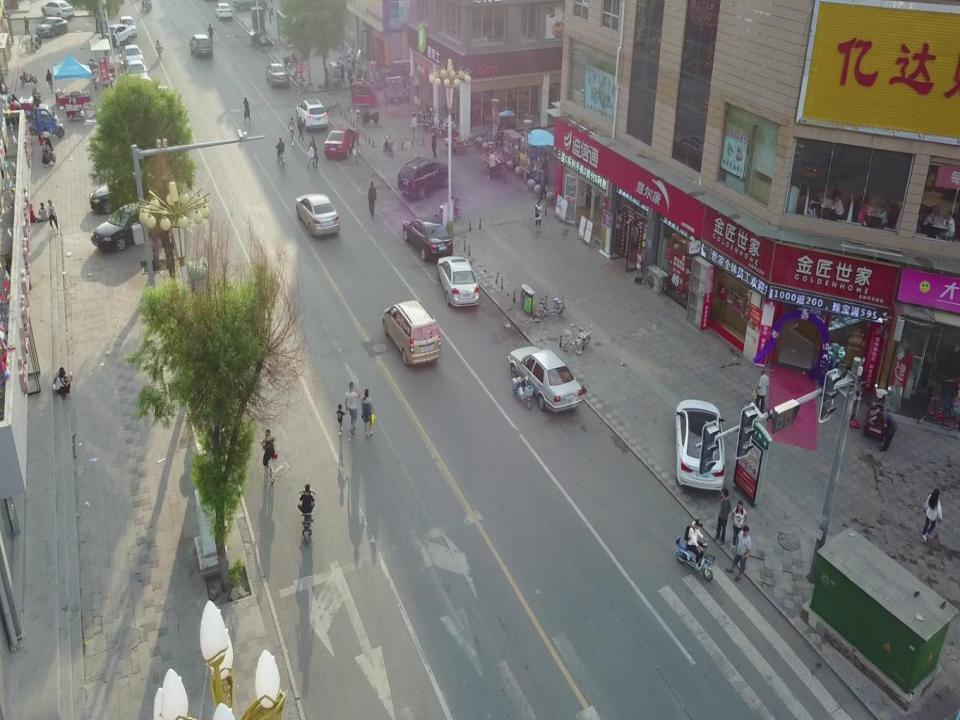car: (670, 388, 730, 492), (506, 341, 591, 414), (85, 192, 168, 252), (90, 160, 175, 214), (400, 210, 456, 262), (437, 251, 479, 310), (294, 188, 343, 236), (397, 154, 451, 196), (291, 96, 327, 131), (325, 127, 361, 157), (128, 75, 158, 109), (96, 23, 132, 49), (34, 16, 70, 39), (261, 62, 290, 90), (126, 60, 150, 92), (187, 32, 214, 59), (39, 0, 75, 18), (121, 44, 144, 65), (119, 12, 137, 38), (214, 0, 234, 23)
van: (382, 296, 443, 366)
